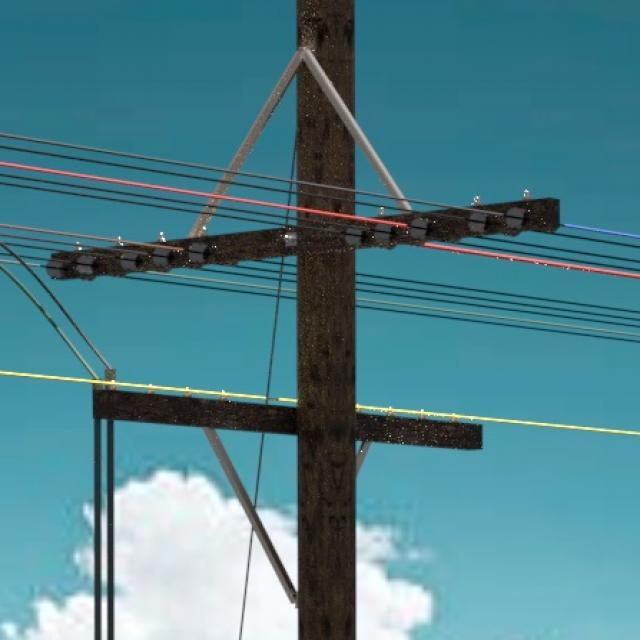crossarm: (46, 198, 561, 282), (93, 386, 484, 451)
pole: (296, 2, 358, 639)
